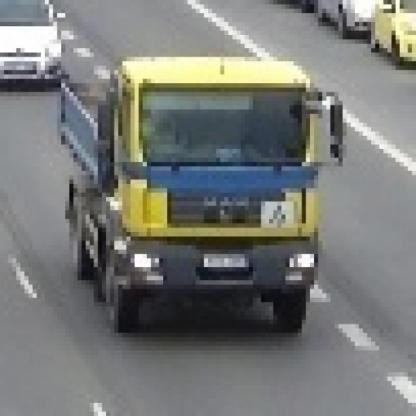truck: (54, 1, 344, 338)
